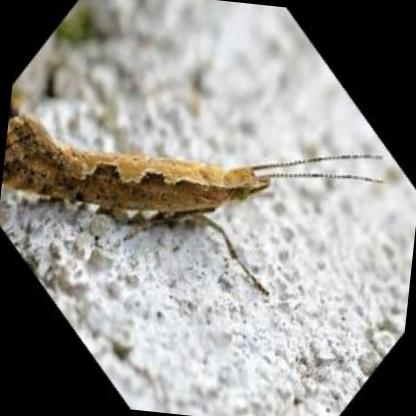plutella: (4, 98, 402, 302)
